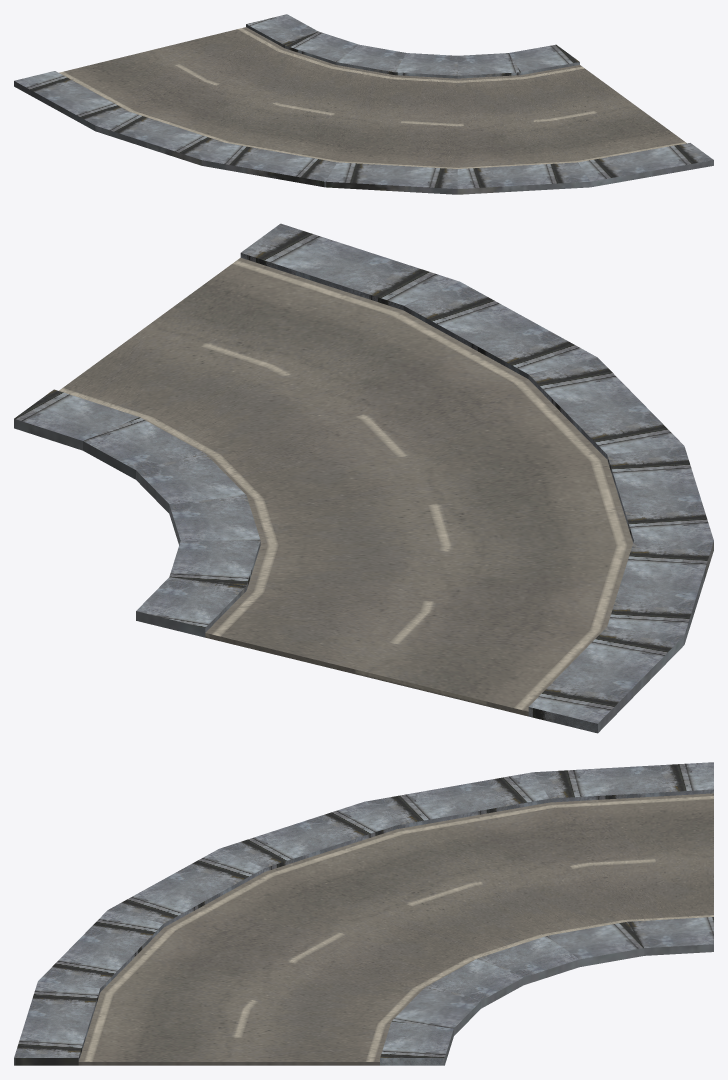
File: Urban_Road4LongCorner_Model.fbx
3 views of the same model, one above another, from view 1: azimuth 30°, elevation 25°; view 2: azimuth 150°, elevation 25°; view 3: azimuth 270°, elevation 25° (orthographic). The views are drawn at different scales.
Visible parts, largest first — view 1: Urban_Road4LongCorner_Mesh; view 2: Urban_Road4LongCorner_Mesh; view 3: Urban_Road4LongCorner_Mesh.
Boxes of the visible parts, x1=… form: Urban_Road4LongCorner_Mesh: x1=14, y1=14, x2=713, y2=194; Urban_Road4LongCorner_Mesh: x1=14, y1=223, x2=713, y2=733; Urban_Road4LongCorner_Mesh: x1=14, y1=762, x2=713, y2=1065.
Bounding box in the file's own units: 26 × 0.32 × 26.
